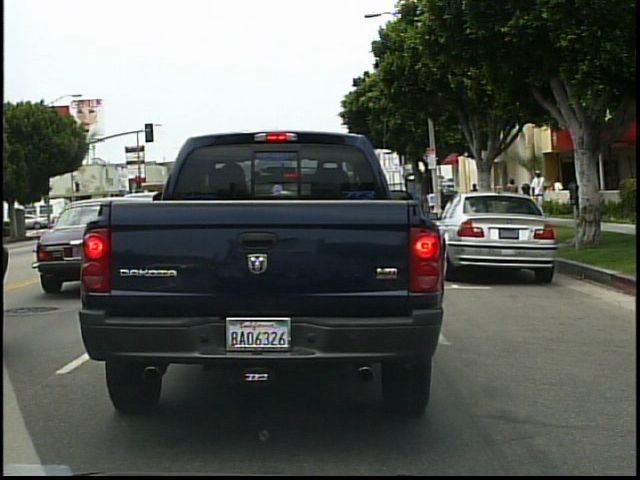person: (526, 164, 551, 214), (551, 173, 571, 220), (503, 174, 522, 218), (466, 179, 486, 218)
